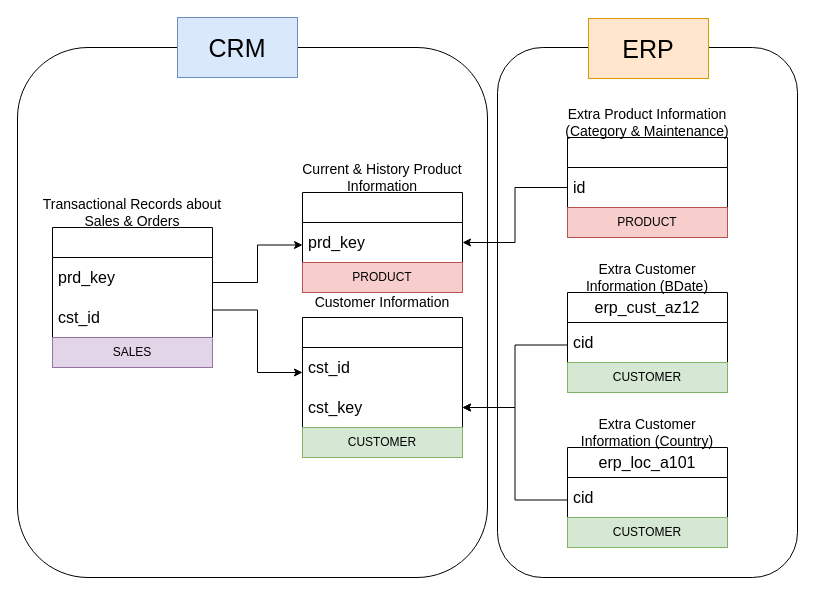
This 815x595 diagram has some shape labels left out. Each missing label, with the box of its shape:
crm_cust_info: (302, 316, 462, 428)
crm_prd_info: (302, 192, 462, 262)
crm_sales_details: (52, 226, 212, 338)
erp_px_cat_g1v2: (566, 136, 728, 208)
